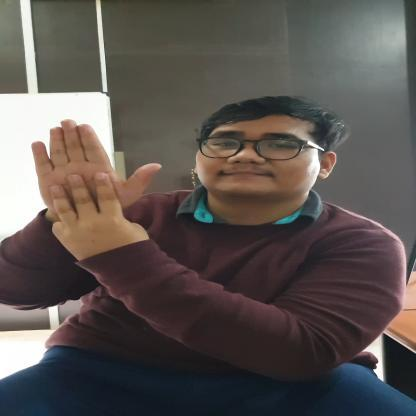M: (30, 118, 164, 240)
